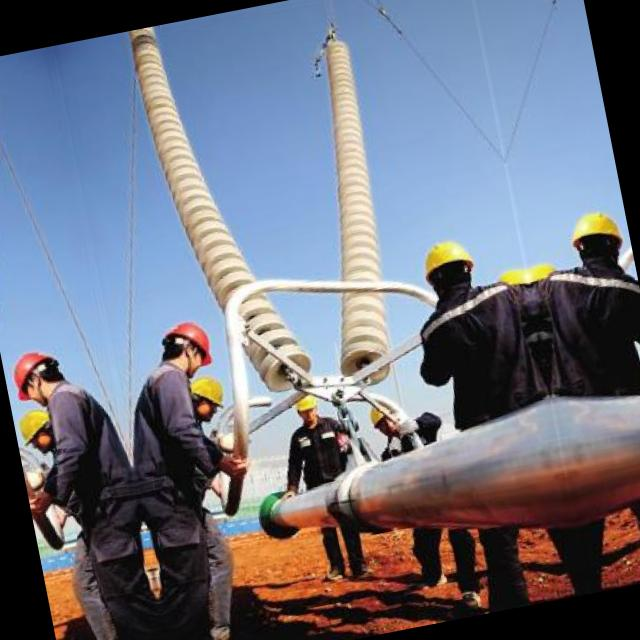helmet: (412, 228, 483, 310), (562, 198, 633, 280), (154, 312, 216, 380), (8, 342, 68, 408), (182, 370, 231, 430), (13, 403, 62, 462), (363, 398, 411, 444), (291, 385, 323, 429)
